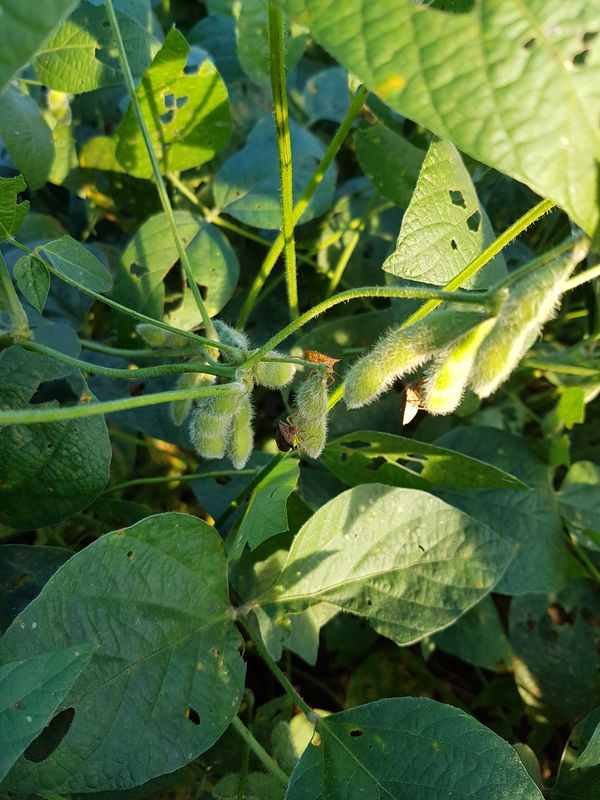Euschistus_heros_adulto: (260, 404, 322, 460), (386, 369, 438, 430), (281, 344, 349, 390)
